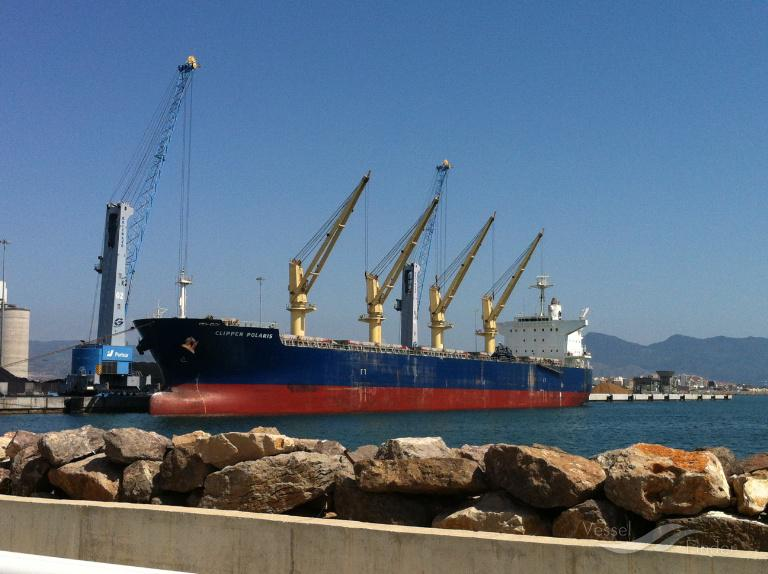OCR: (215, 326, 271, 348)
